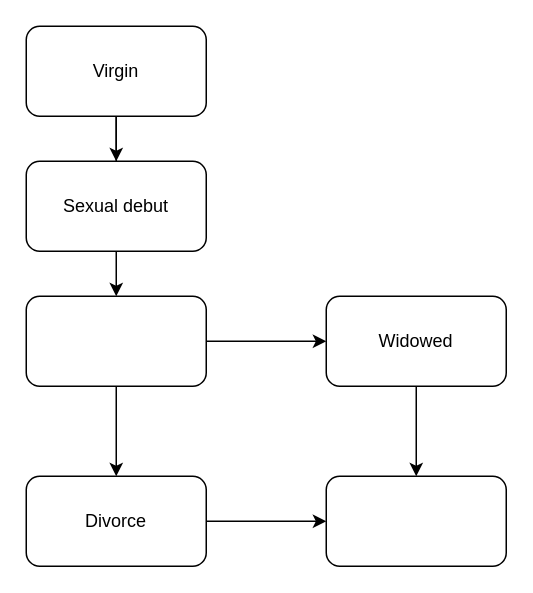
Image size: 533x593. Some labels were removed from this diagram. Each missing label, with the centre of its shape:
Marriage: point (115, 340)
Remarrage: point (415, 520)
